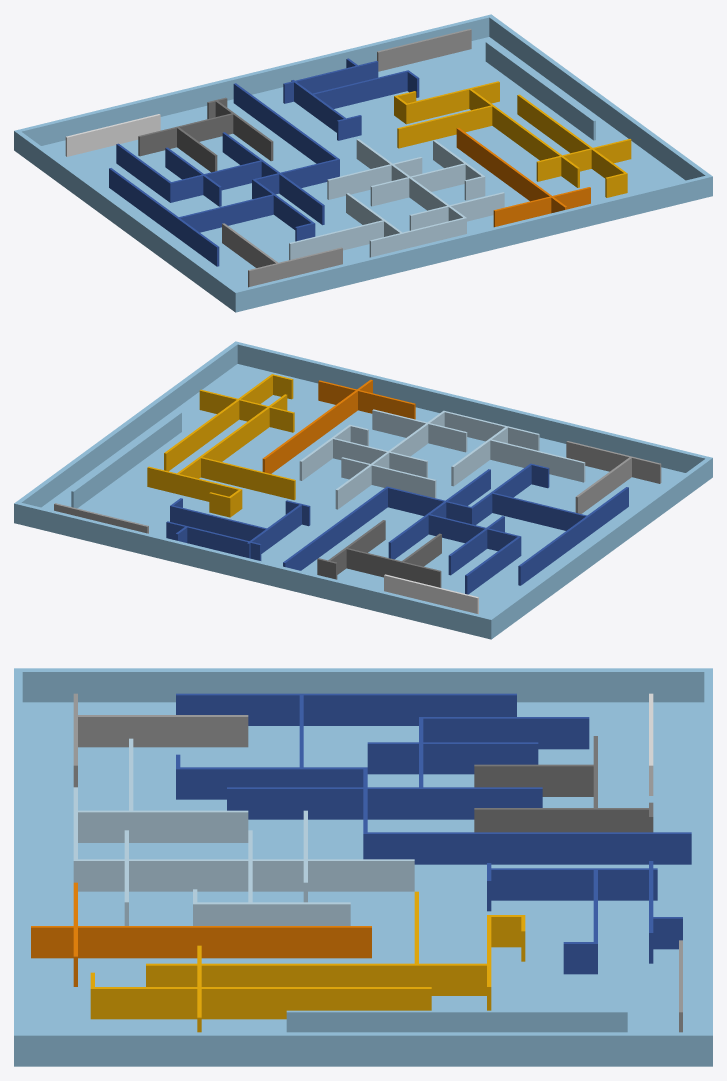
The model's file is novo_mundo.dae.
3 views of the same model, one above another, from view 1: azimuth 30°, elevation 25°; view 2: azimuth 150°, elevation 25°; view 3: azimuth 270°, elevation 25° (orthographic). The views are drawn at different scales.
Parts seen in each view (by area): view 1: 5eaa03913e51fd12c8da678f (×12); view 2: 5eaa03913e51fd12c8da678f (×12); view 3: 5eaa03913e51fd12c8da678f (×10).
Boxes of the visible parts, x1=… form: 5eaa03913e51fd12c8da678f (×12): x1=14, y1=14, x2=712, y2=312; 5eaa03913e51fd12c8da678f (×12): x1=14, y1=341, x2=712, y2=639; 5eaa03913e51fd12c8da678f (×10): x1=14, y1=668, x2=712, y2=1066.
Bounding box in the file's own units: 51 × 41 × 2.
